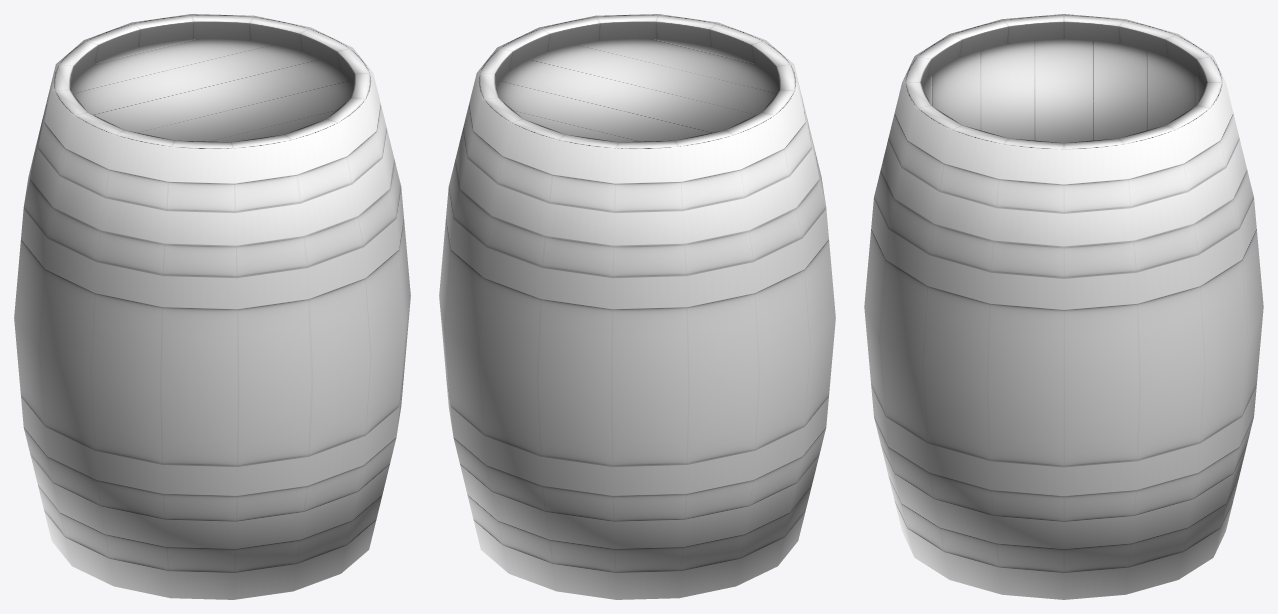
File: Barile3.fbx
3 renders of one model, left to right at view 1: azimuth 30°, elevation 25°; view 2: azimuth 150°, elevation 25°; view 3: azimuth 270°, elevation 25°, orthographic.
Visible parts, largest first — view 1: barrel_100_lp; view 2: barrel_100_lp; view 3: barrel_100_lp.
Boxes of the visible parts, x1,y1,x2,y2 form: barrel_100_lp: [14, 14, 410, 599]; barrel_100_lp: [439, 14, 835, 599]; barrel_100_lp: [864, 14, 1263, 599].
Size of the model in its own units: 123 by 153 by 123.
